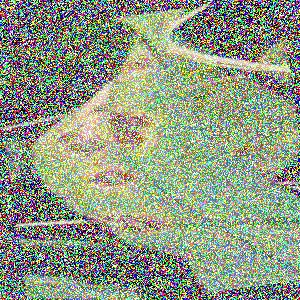Bacterial_Leaf_Blight: (90, 198, 176, 242), (77, 155, 149, 200), (105, 103, 167, 135), (62, 131, 111, 164), (112, 125, 159, 157), (44, 121, 91, 148), (122, 56, 162, 77), (87, 98, 112, 118), (131, 49, 151, 59)
